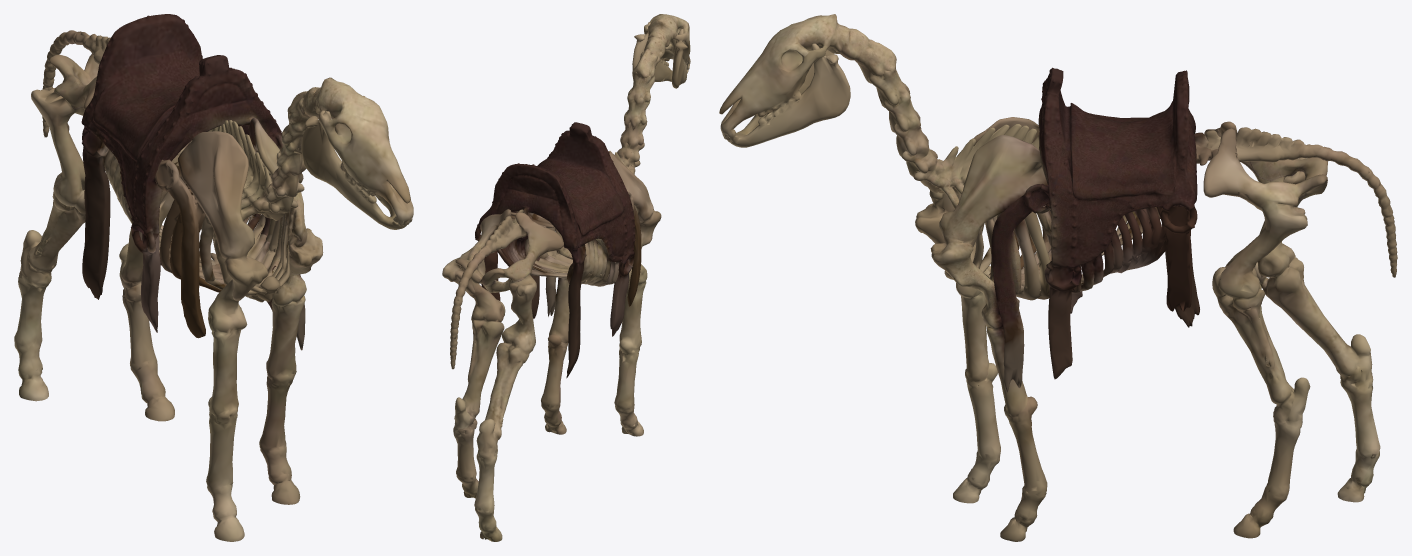
Rendered from MZ4250 - Skeletal Warhorse.glb.
The picture shows the model from 3 angles, left to right: view 1: azimuth 30°, elevation 25°; view 2: azimuth 150°, elevation 25°; view 3: azimuth 270°, elevation 25°; orthographic projection. The views are drawn at different scales.
Parts seen in each view (by area): view 1: default; view 2: default; view 3: default.
Boxes of the visible parts, x1,y1,x2,y2 form: default: [14, 14, 413, 541]; default: [442, 14, 690, 541]; default: [719, 14, 1397, 541].
Bounding box in the file's own units: 0.3235 × 1.05 × 1.3.
Materials: 1 (1 with a texture image).
